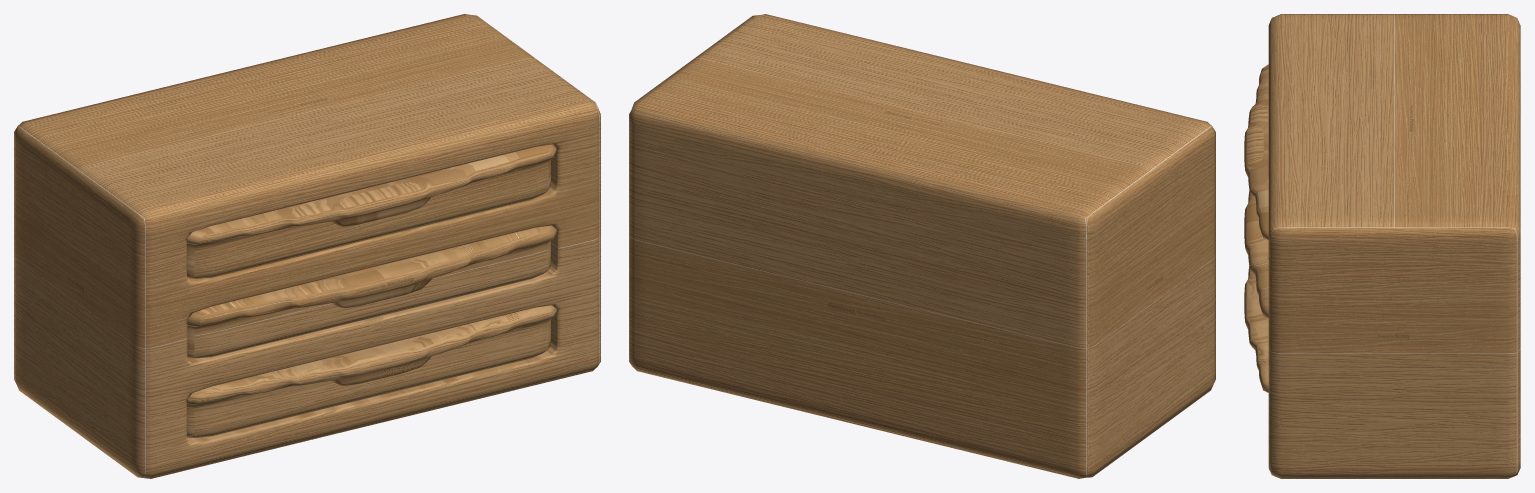
File: Dresser.fbx
3 renders of one model, left to right at view 1: azimuth 30°, elevation 25°; view 2: azimuth 150°, elevation 25°; view 3: azimuth 270°, elevation 25°, orthographic. The views are drawn at different scales.
Visible parts, largest first — view 1: Dresser; view 2: Dresser; view 3: Dresser.
Part boxes in pixels (x1,y1,x2,y2): Dresser: [14, 14, 600, 478]; Dresser: [629, 14, 1215, 478]; Dresser: [1244, 14, 1520, 478].
Size of the model in its own units: 5.43 by 3 by 2.93.
Materials: 1 (1 with a texture image).
